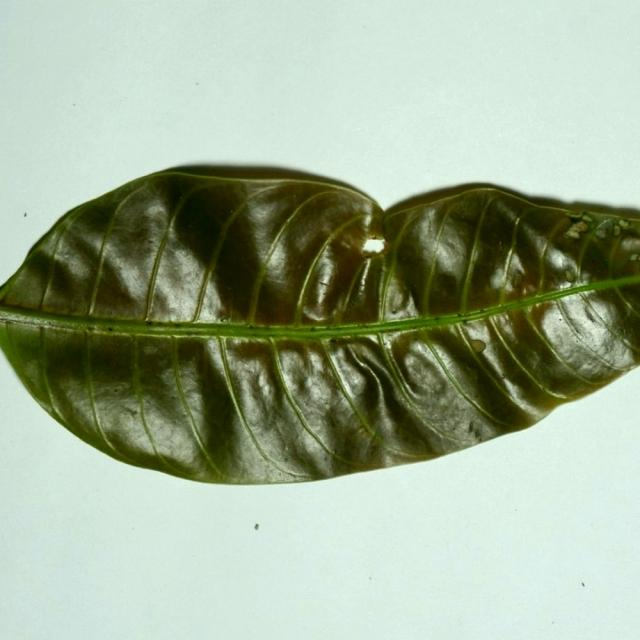Anthracnose: (3, 310, 90, 331), (362, 228, 395, 268), (467, 339, 487, 356), (564, 269, 575, 282), (367, 233, 382, 242), (254, 523, 259, 530)
Mango: (0, 165, 639, 489)
